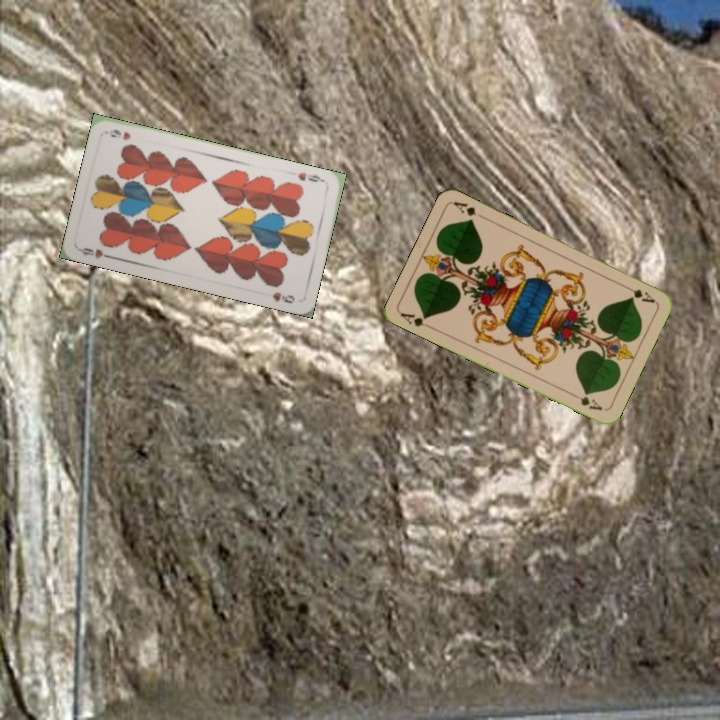GA: (620, 281, 657, 306), (397, 309, 435, 332)
H9: (76, 243, 116, 262), (294, 168, 328, 187)
